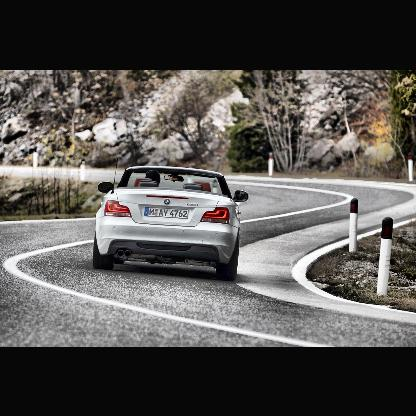BMW 1 Series Convertible 2012: (96, 166, 249, 282)
